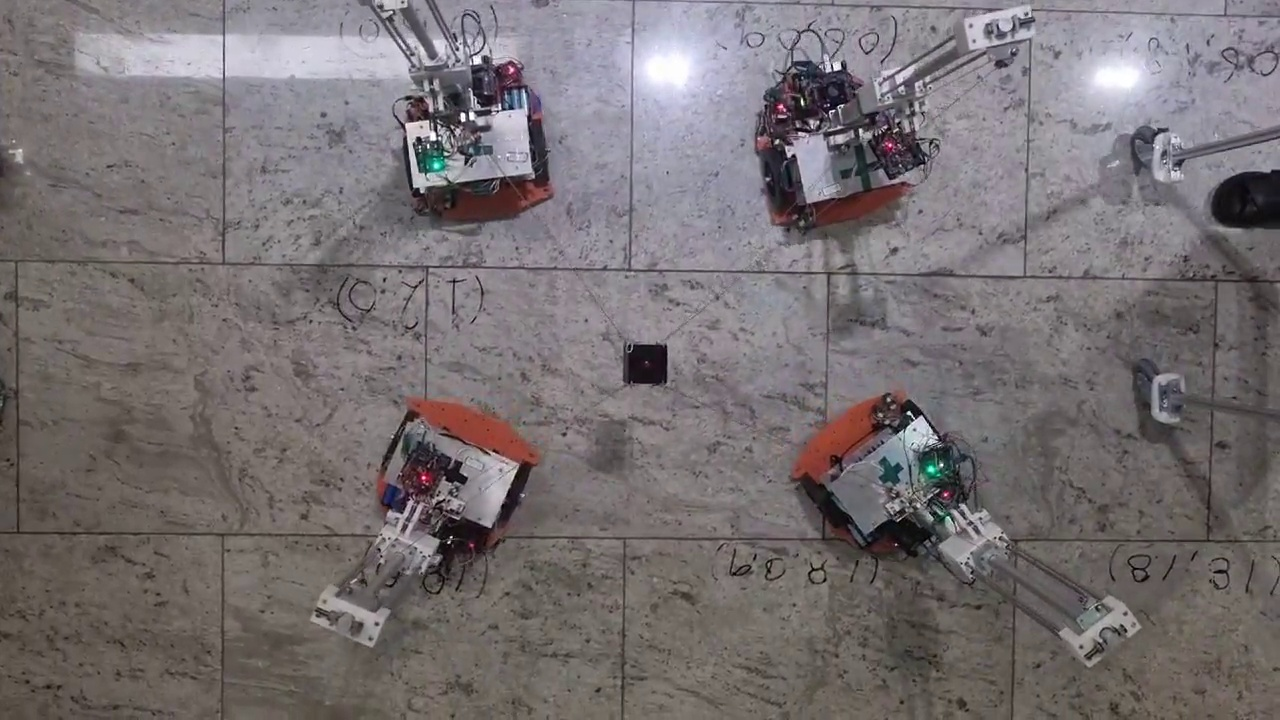e0: (627, 344, 667, 382)
r1: (799, 398, 954, 535)
r2: (759, 113, 905, 208)
r3: (403, 118, 552, 194)
r4: (382, 403, 532, 525)
y_+_axis_vector: (629, 270, 1026, 278)
y_-_axis_vector: (223, 264, 629, 270)
